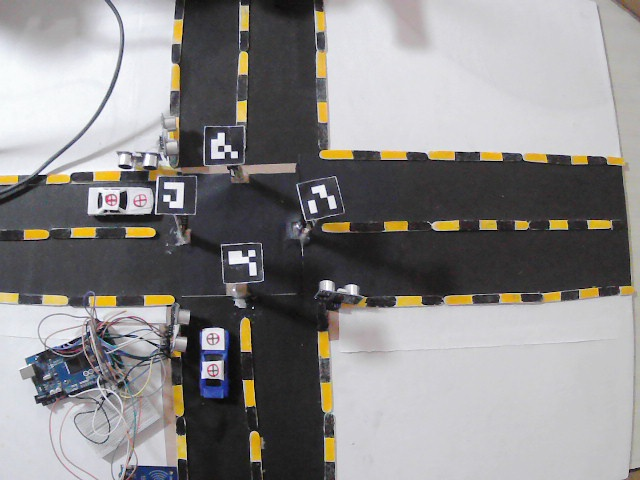aruco_marker: (296, 176, 346, 225), (203, 122, 245, 167), (155, 172, 198, 214), (220, 244, 264, 285)
emergency_vehicle: (194, 326, 236, 404), (84, 186, 155, 219)
uno_breadboard: (19, 323, 131, 409), (69, 374, 162, 459), (313, 279, 362, 310), (166, 305, 194, 352), (113, 147, 163, 173), (117, 462, 178, 480), (158, 109, 179, 159)
